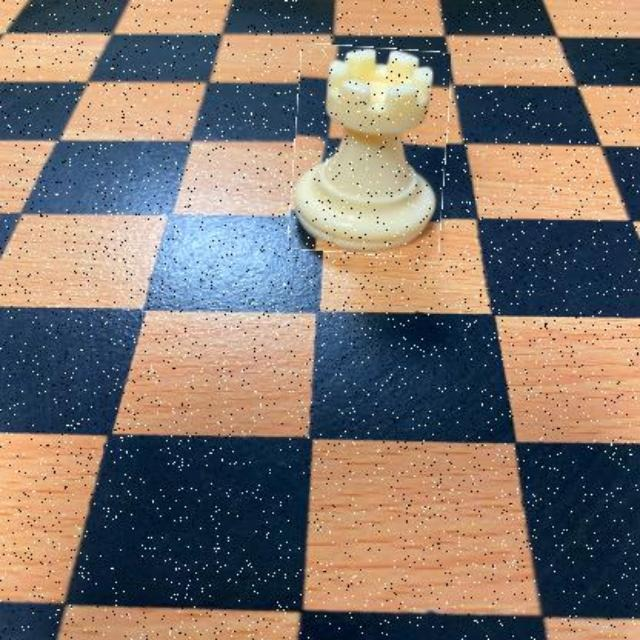white-rook: (292, 47, 450, 257)
